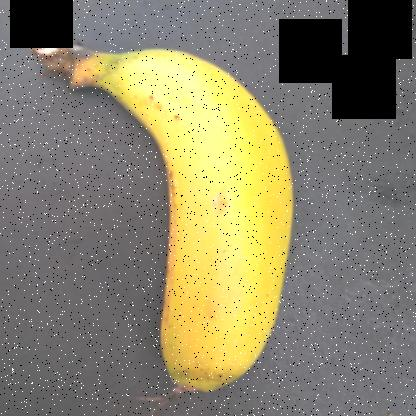freshripe: (110, 27, 318, 397)
